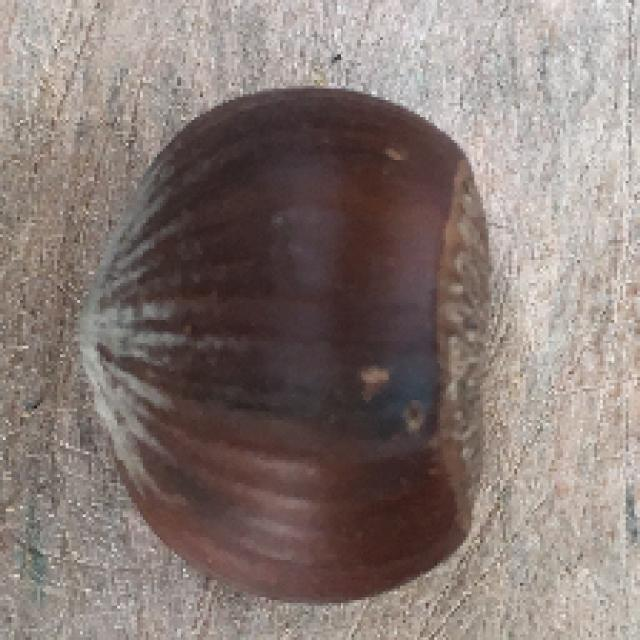damagedHazelnut: (72, 78, 517, 608)
